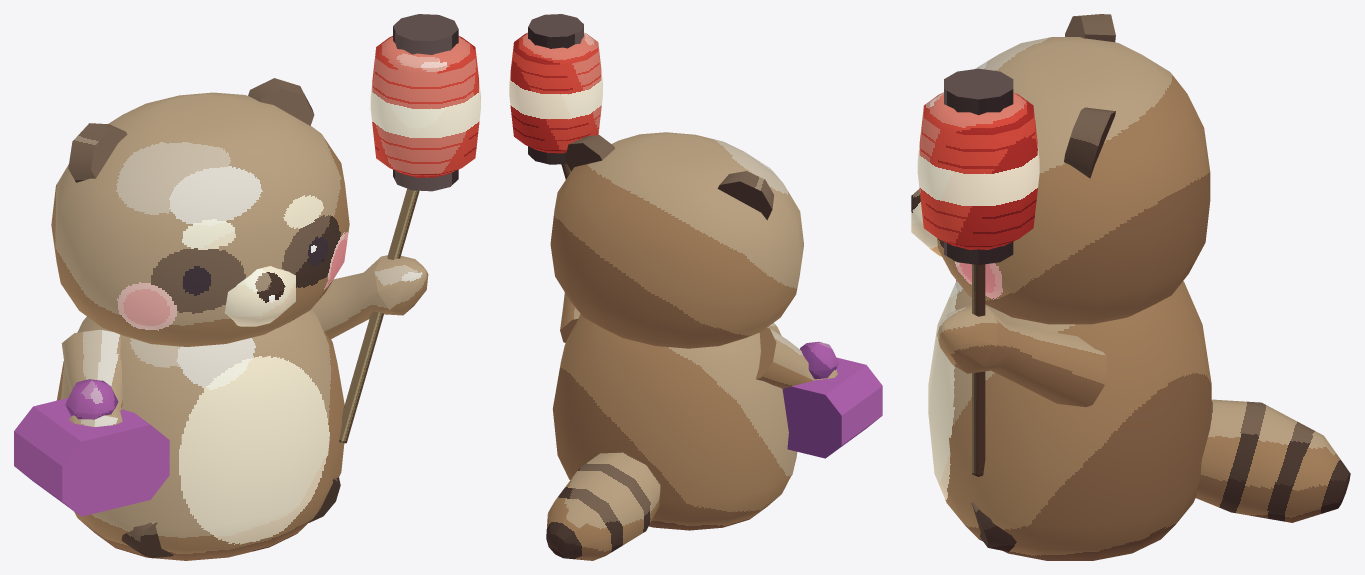
The model's file is night.glb.
The picture shows the model from 3 angles, left to right: view 1: azimuth 30°, elevation 25°; view 2: azimuth 150°, elevation 25°; view 3: azimuth 270°, elevation 25°; orthographic projection. The views are drawn at different scales.
Visible parts, largest first — view 1: head, body, lantern, bento, armR, armL, muzzle, pole, cap1, earL, bknot, earR (+2 smaller); view 2: head, body, lantern, tail, bento, armL, cap1, earL, earR, bknot, armR; view 3: body, head, lantern, tail, armR, cap1, earR, pole, earL, cap0, legR, muzzle.
Part boxes in pixels (<box>): head: <box>51,92,349,346</box>; body: <box>56,309,344,560</box>; lantern: <box>370,36,480,177</box>; bento: <box>14,398,169,516</box>; armR: <box>312,255,428,339</box>; armL: <box>61,329,122,426</box>; muzzle: <box>224,266,295,326</box>; pole: <box>339,188,419,443</box>; cap1: <box>393,14,458,54</box>; earL: <box>68,123,127,182</box>; bknot: <box>65,379,118,419</box>; earR: <box>248,78,314,125</box>; head: <box>550,132,803,348</box>; body: <box>552,313,797,530</box>; lantern: <box>509,32,602,153</box>; tail: <box>546,452,660,560</box>; bento: <box>782,357,882,458</box>; armL: <box>756,328,837,388</box>; cap1: <box>528,14,583,48</box>; earL: <box>717,171,774,220</box>; earR: <box>565,135,614,171</box>; bknot: <box>800,341,838,379</box>; armR: <box>560,292,580,342</box>; body: <box>928,281,1211,560</box>; head: <box>937,37,1210,324</box>; lantern: <box>917,92,1039,249</box>; tail: <box>1195,399,1350,522</box>; armR: <box>937,305,1106,406</box>; cap1: <box>944,68,1013,115</box>; earR: <box>1064,107,1115,178</box>; pole: <box>972,264,985,476</box>; earL: <box>1065,14,1115,42</box>; cap0: <box>944,242,1013,264</box>; legR: <box>971,502,1016,551</box>; muzzle: <box>911,189,941,256</box>.
Size of the model in its own units: 35.3 by 38.19 by 28.85.
Materials: 1 (1 with a texture image).
